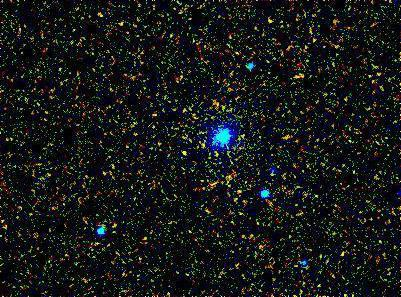star: (168, 140, 198, 170)
